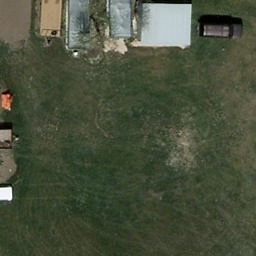camping car: (65, 0, 95, 49), (107, 0, 133, 37)
car: (200, 17, 246, 37)
